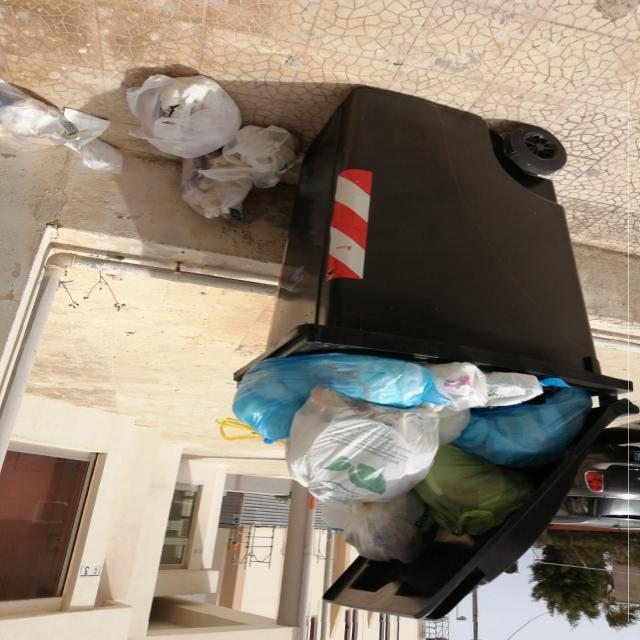Anorganik: (108, 80, 629, 622)
